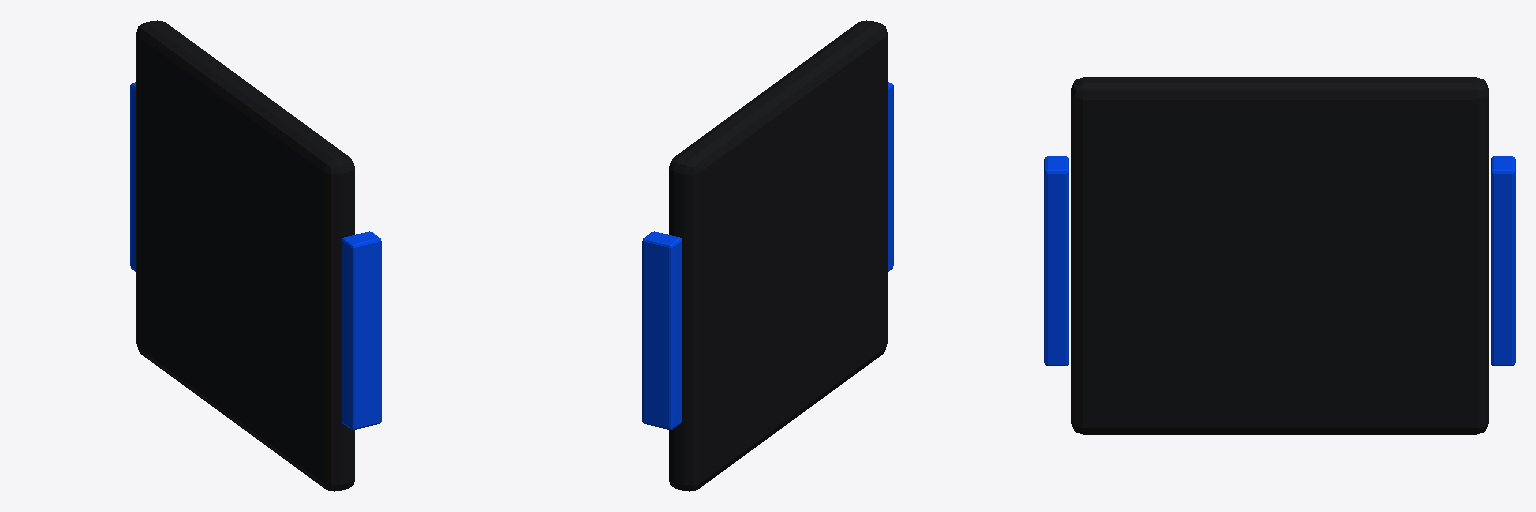
URDF robot description (impact_base_plate):
<?xml version='1.0' encoding='utf-8'?>
<robot name="impact_base_plate"><link name="armor_plate"><visual name="TopArmor_0_TeamGlow"><geometry><mesh filename="part_004.obj" /></geometry><material name="material_4"><color rgba="0.04 0.32 0.95 1" /></material></visual><collision name="collision_4"><geometry><mesh filename="part_004.obj" /></geometry></collision><visual name="SmallArmor"><geometry><mesh filename="part_005.obj" /></geometry><material name="material_5"><color rgba="0.12156862745098039 0.12549019607843137 0.13333333333333333 1.0" /></material></visual><collision name="collision_5"><geometry><mesh filename="part_005.obj" /></geometry></collision></link></robot>

--- Render facts (derived) ---
3 views of the same robot in one strip: view 1: azimuth 30°, elevation 25°; view 2: azimuth 150°, elevation 25°; view 3: azimuth 270°, elevation 25° (orthographic).
Robot: impact_base_plate — 1 links, 0 joints (none); root link armor_plate; default pose: all joints at 0.
Visible links, largest first — view 1: armor_plate; view 2: armor_plate; view 3: armor_plate.
Boxes of the visible links, x1,y1,x2,y2 form: armor_plate: [130, 20, 381, 491]; armor_plate: [642, 20, 893, 491]; armor_plate: [1044, 77, 1515, 434].
Size in the robot's own frame: 0.016 by 0.152 by 0.125 metres.
2 mesh visuals loaded from 2 distinct referenced files (2 OBJ).
